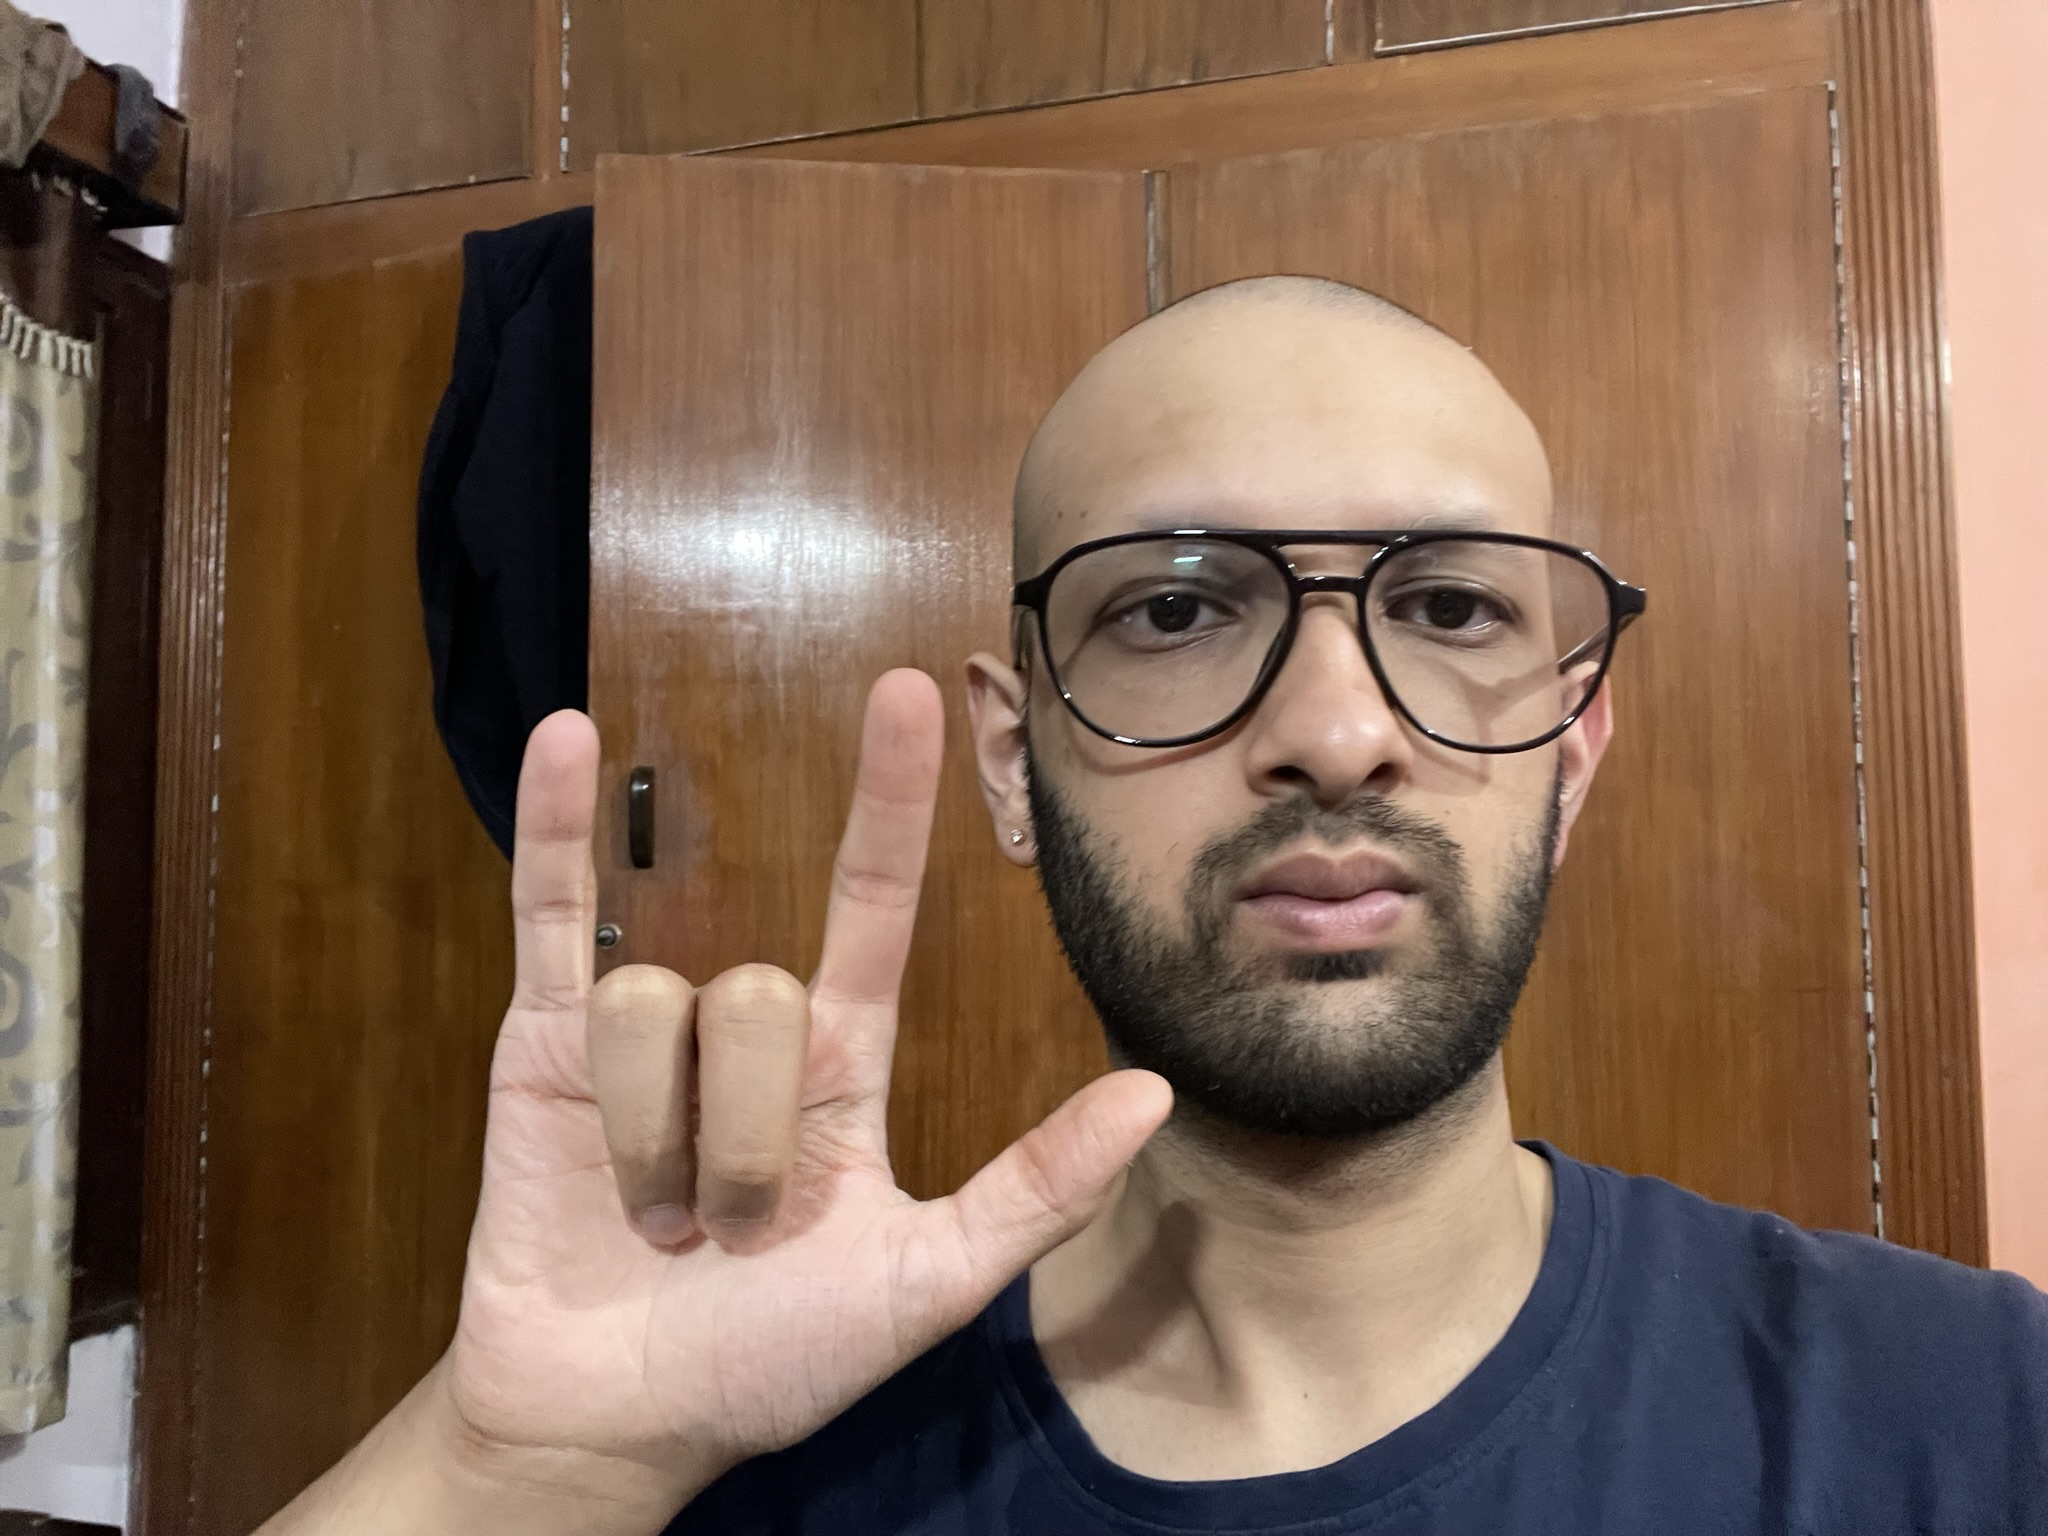I Love You: (450, 657, 1177, 1439)
